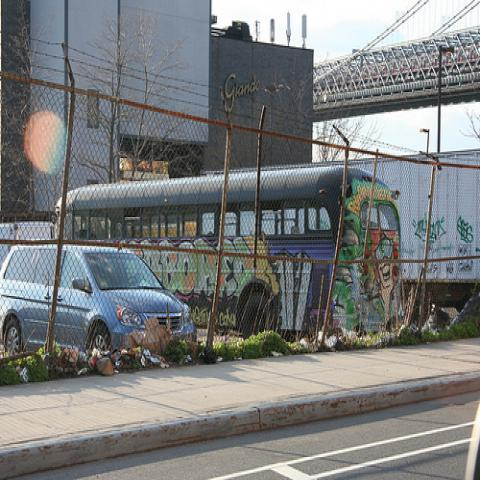bus: (53, 159, 408, 344)
car: (0, 239, 198, 356)
